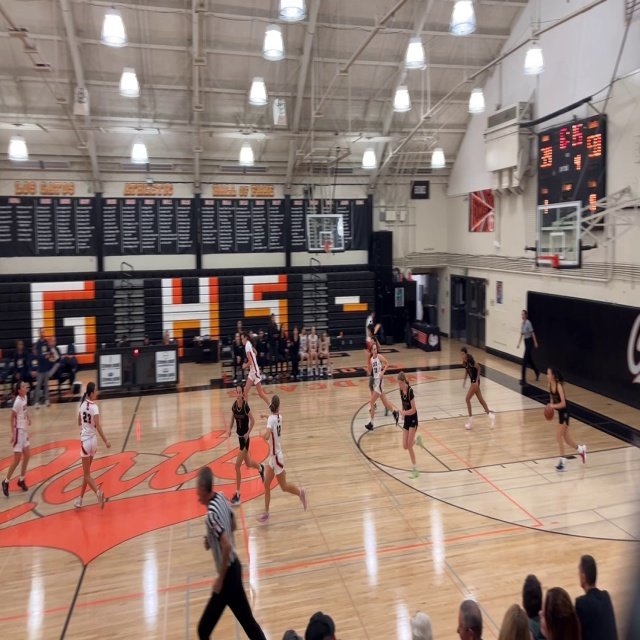Basketball: (544, 405, 554, 420)
